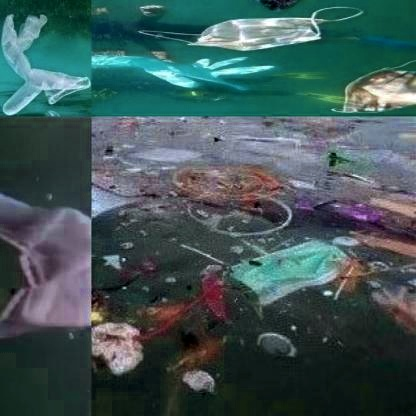Mask: (0, 175, 91, 364), (128, 6, 368, 51), (230, 239, 356, 307), (324, 59, 415, 114)
glove: (1, 12, 91, 116), (94, 52, 276, 92)
